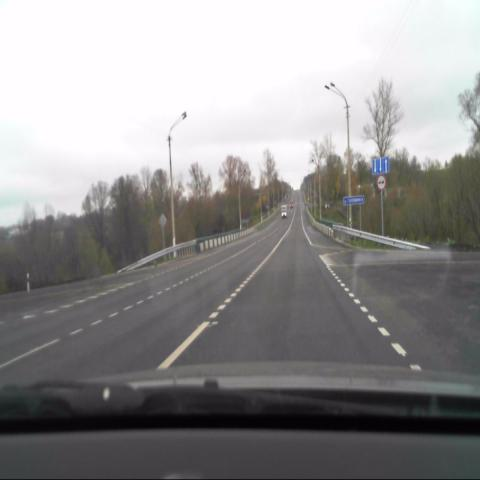5_15_7: (372, 157, 390, 175)
